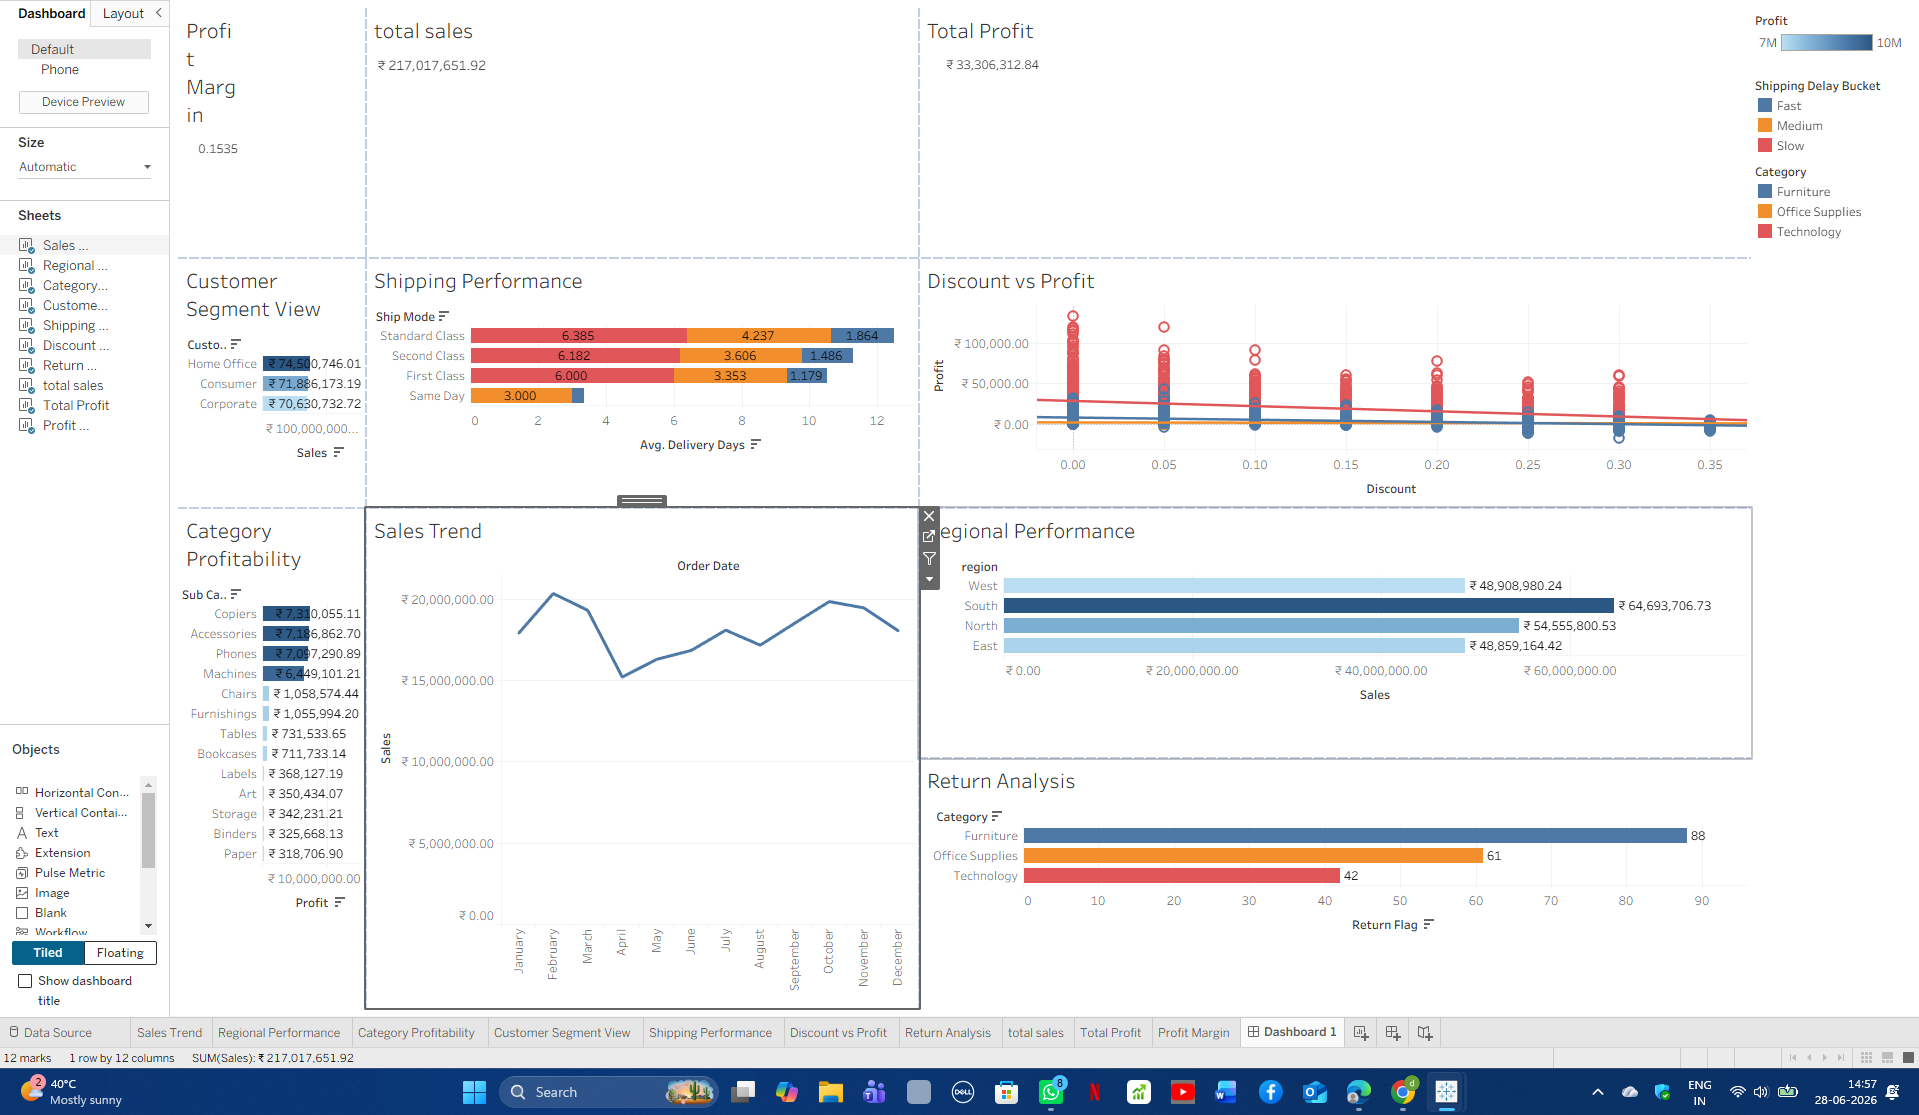

This screenshot's page, from the dashboard's own definition file:
{"tool":"tableau","page":{"name":"Dashboard 1","canvas":[1000,1000],"units":"permille","ordinal":0},"visuals":[{"type":"worksheet","title":"Profit Margin","mark":"Automatic","box":[4.6,7.9,107.8,246.1]},{"type":"worksheet","title":"total sales","mark":"Automatic","box":[112.3,7.9,316.1,246.1]},{"type":"worksheet","title":"Total Profit","mark":"Text","box":[428.4,7.9,475.5,246.1]},{"type":"legend","title":"Regional Performance","param":"[federated.125xher1p3y63d0zqd0pr1u6xt4k].[sum:profit:qk]","box":[904,7.9,91.5,64]},{"type":"legend","title":"Shipping Performance","param":"[federated.125xher1p3y63d0zqd0pr1u6xt4k].[none:Calculation_1986010266415109:nk]","box":[904,71.8,91.5,84.6]},{"type":"legend","title":"Discount vs Profit","param":"[federated.125xher1p3y63d0zqd0pr1u6xt4k].[none:category:nk]","box":[904,156.5,91.5,84.6]},{"type":"worksheet","title":"Customer Segment View","mark":"Automatic","rows":["customer_segment"],"cols":["sales"],"box":[4.6,253.9,107.8,246.1]},{"type":"worksheet","title":"Shipping Performance","mark":"Automatic","rows":["ship_mode"],"cols":["delivery_days"],"box":[112.3,253.9,316.1,246.1]},{"type":"worksheet","title":"Discount vs Profit","mark":"Automatic","rows":["profit"],"cols":["discount"],"box":[428.4,253.9,475.5,246.1]},{"type":"worksheet","title":"Category Profitability","mark":"Automatic","rows":["sub_category"],"cols":["profit"],"box":[4.6,500,107.8,492.1]},{"type":"worksheet","title":"Sales Trend","mark":"Automatic","rows":["sales"],"cols":["order_date"],"box":[112.3,500,316.1,492.1]},{"type":"worksheet","title":"Regional Performance","mark":"Automatic","rows":["region"],"cols":["sales"],"box":[428.4,500,475.5,246.1]},{"type":"worksheet","title":"Return Analysis","mark":"Bar","rows":["category"],"cols":["return_flag"],"box":[428.4,746.1,475.5,246.1]}]}

Visuals, with their boxes on the dashboard's canvas, which has no fixed pixel size, in thousandths of its width and height (x1, y1, x2, y2). These are canvas units, not pixel positions in the 1919x1115 screenshot, which may show the page scaled, cropped or inside an application window:
"Profit Margin" worksheet: (left=5, top=8, right=112, bottom=254)
"total sales" worksheet: (left=112, top=8, right=428, bottom=254)
"Total Profit" worksheet (Text marks): (left=428, top=8, right=904, bottom=254)
"Regional Performance" legend: (left=904, top=8, right=996, bottom=72)
"Shipping Performance" legend: (left=904, top=72, right=996, bottom=156)
"Discount vs Profit" legend: (left=904, top=156, right=996, bottom=241)
"Customer Segment View" worksheet: (left=5, top=254, right=112, bottom=500)
"Shipping Performance" worksheet: (left=112, top=254, right=428, bottom=500)
"Discount vs Profit" worksheet: (left=428, top=254, right=904, bottom=500)
"Category Profitability" worksheet: (left=5, top=500, right=112, bottom=992)
"Sales Trend" worksheet: (left=112, top=500, right=428, bottom=992)
"Regional Performance" worksheet: (left=428, top=500, right=904, bottom=746)
"Return Analysis" worksheet (Bar marks): (left=428, top=746, right=904, bottom=992)
